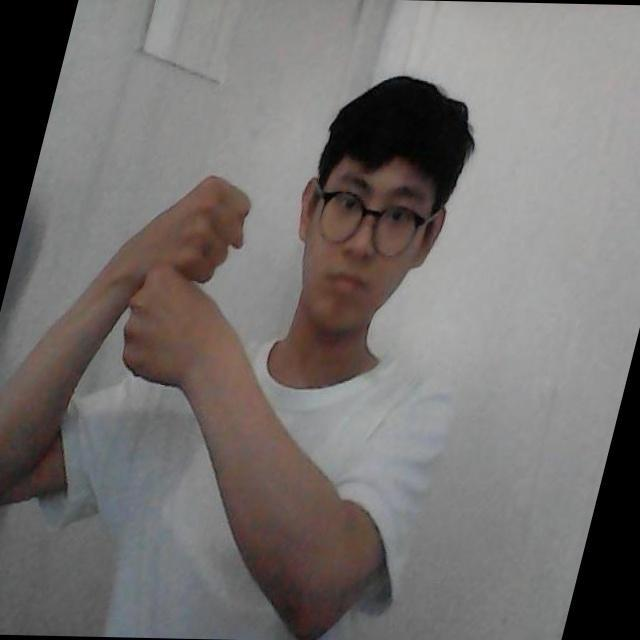G: (92, 176, 284, 434)
